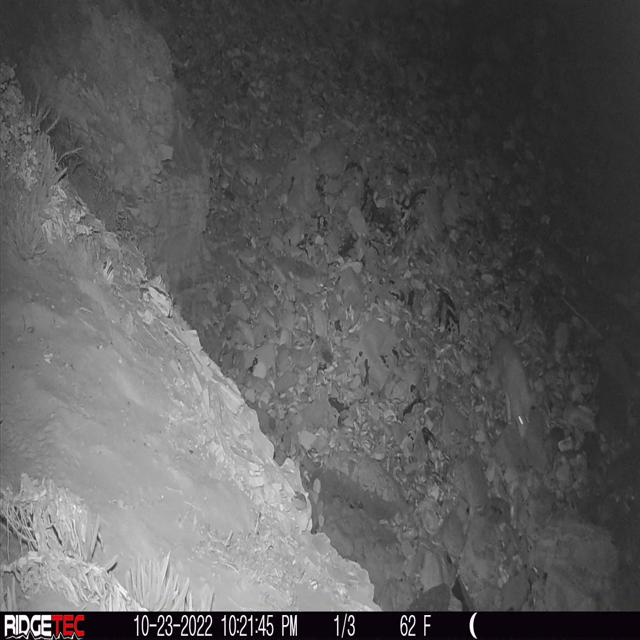coyote: (477, 326, 540, 448)
